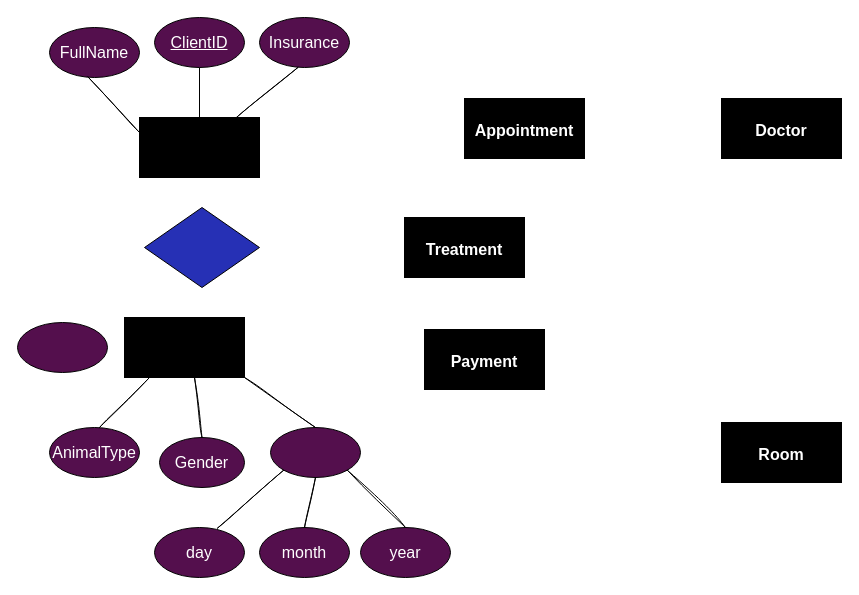
Image size: 859x595. Some labels were removed from this diagram. Here are the shapes that lost their labels. From the top down, the centre of each, then its label:
(x=199, y=147): Client
(x=202, y=247): Owns
(x=62, y=347): ID
(x=184, y=347): Pet
(x=315, y=452): Birthday
